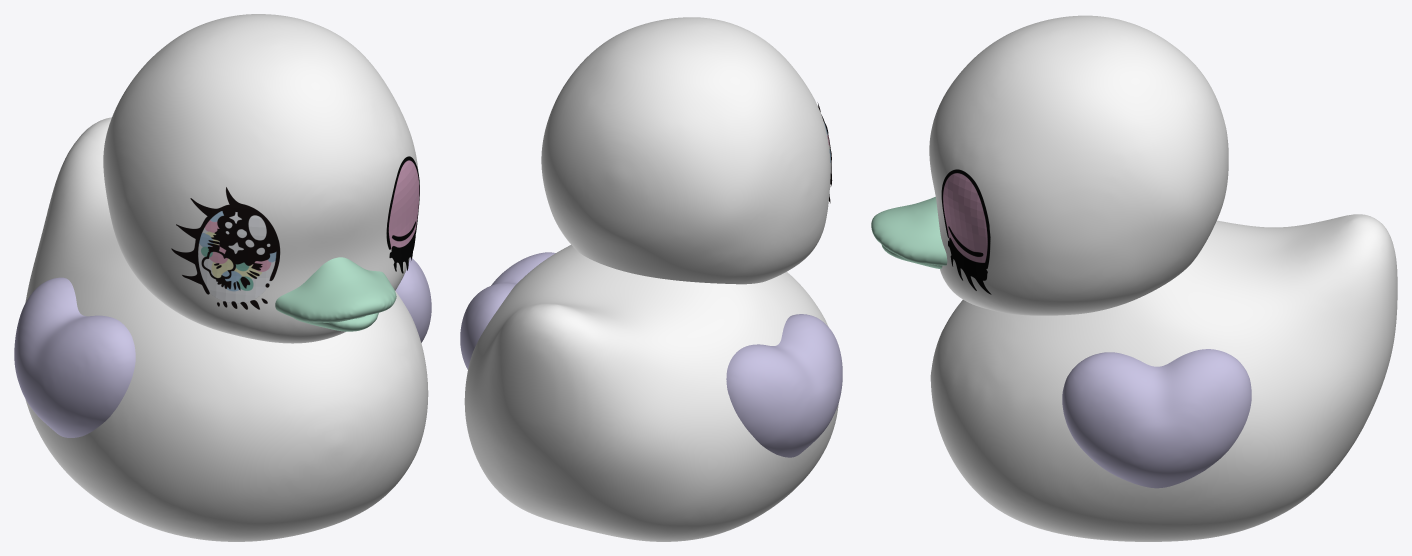
The picture shows the model from 3 angles, left to right: view 1: azimuth 30°, elevation 25°; view 2: azimuth 150°, elevation 25°; view 3: azimuth 270°, elevation 25°; orthographic projection. The views are drawn at different scales.
Visible parts, largest first — view 1: Torebi 5, Fix, Torebi 7, 平面.002, Torebi 3, Torebi 4; view 2: Torebi 5, Fix, Torebi 7, Torebi 4; view 3: Torebi 5, Fix, Torebi 4, 平面.002, Torebi 3.
Part boxes in pixels (<box>): Torebi 5: <box>25,117,428,541</box>; Fix: <box>103,14,418,343</box>; Torebi 7: <box>14,277,135,437</box>; 平面.002: <box>171,156,419,309</box>; Torebi 3: <box>275,257,396,331</box>; Torebi 4: <box>395,257,431,342</box>; Torebi 5: <box>464,245,838,541</box>; Fix: <box>541,17,830,284</box>; Torebi 7: <box>726,314,842,457</box>; Torebi 4: <box>460,252,555,369</box>; Torebi 5: <box>930,214,1397,541</box>; Fix: <box>929,15,1228,315</box>; Torebi 4: <box>1062,349,1251,488</box>; 平面.002: <box>941,169,991,294</box>; Torebi 3: <box>871,197,947,268</box>.
Size of the model in its own units: 50.64 by 60.08 by 62.26.
5 materials, 1 textured.
